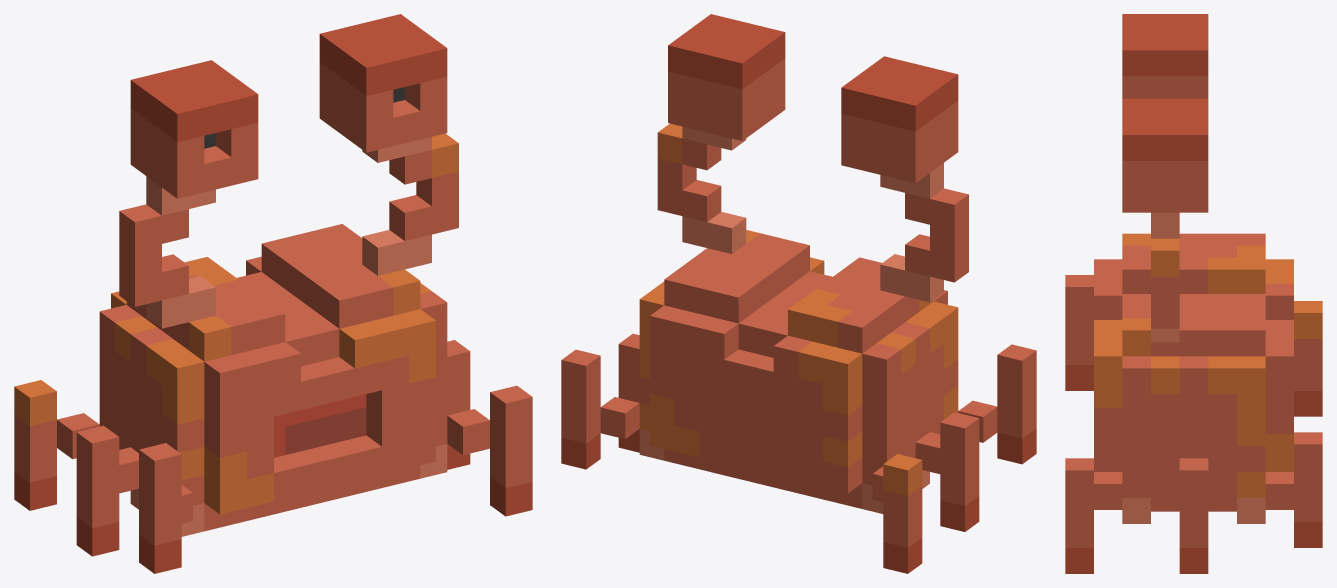
Rendered from Voxels-34.obj.
The picture shows the model from 3 angles, left to right: view 1: azimuth 30°, elevation 25°; view 2: azimuth 150°, elevation 25°; view 3: azimuth 270°, elevation 25°; orthographic projection. The views are drawn at different scales.
Visible parts, largest first — view 1: Voxels-34; view 2: Voxels-34; view 3: Voxels-34.
Boxes of the visible parts, x1=… form: Voxels-34: x1=14, y1=14, x2=532, y2=573; Voxels-34: x1=561, y1=14, x2=1036, y2=573; Voxels-34: x1=1065, y1=14, x2=1322, y2=573.
Size of the model in its own units: 14 by 16 by 9.
Materials: 1 (1 with a texture image).
